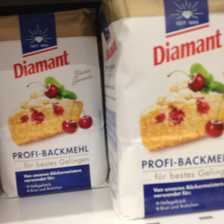flour: (102, 1, 224, 218), (1, 10, 107, 200)
